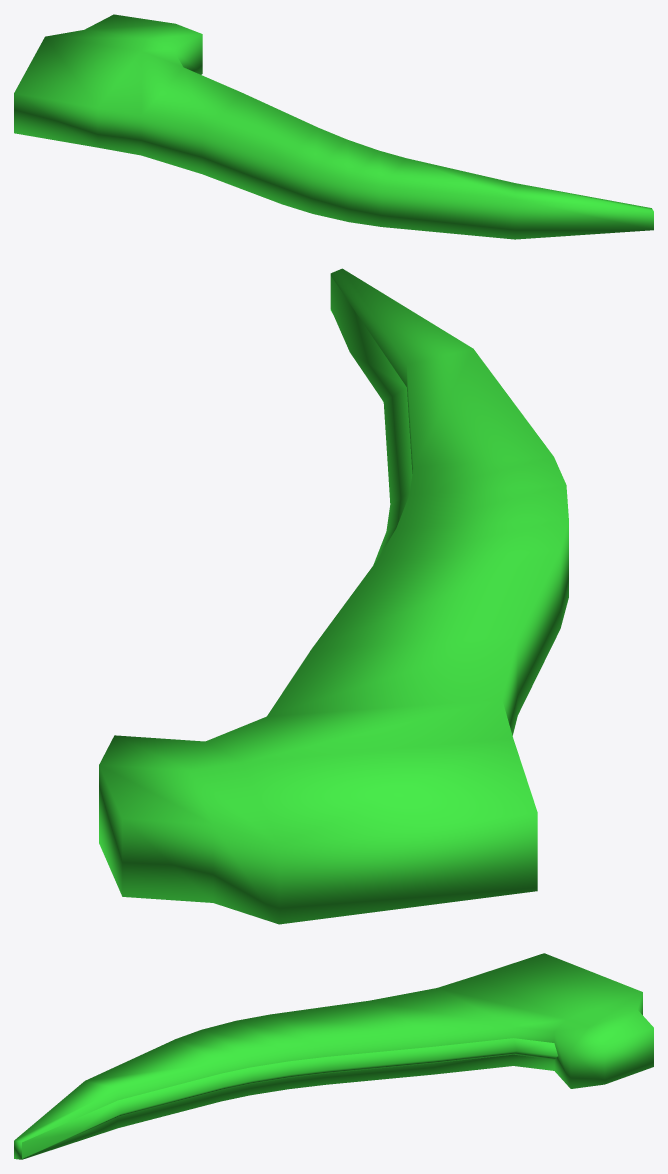
Rendered from SM_Pate_05.fbx.
3 views of the same model, one above another, from view 1: azimuth 30°, elevation 25°; view 2: azimuth 150°, elevation 25°; view 3: azimuth 270°, elevation 25° (orthographic). The views are drawn at different scales.
Parts seen in each view (by area): view 1: SM_Pate_05; view 2: SM_Pate_05; view 3: SM_Pate_05.
Part boxes in pixels (x1,y1,x2,y2): SM_Pate_05: (14,14,653,239); SM_Pate_05: (99,268,568,924); SM_Pate_05: (14,953,653,1159).
Size of the model in its own units: 0.5261 by 0.054 by 0.7995.
